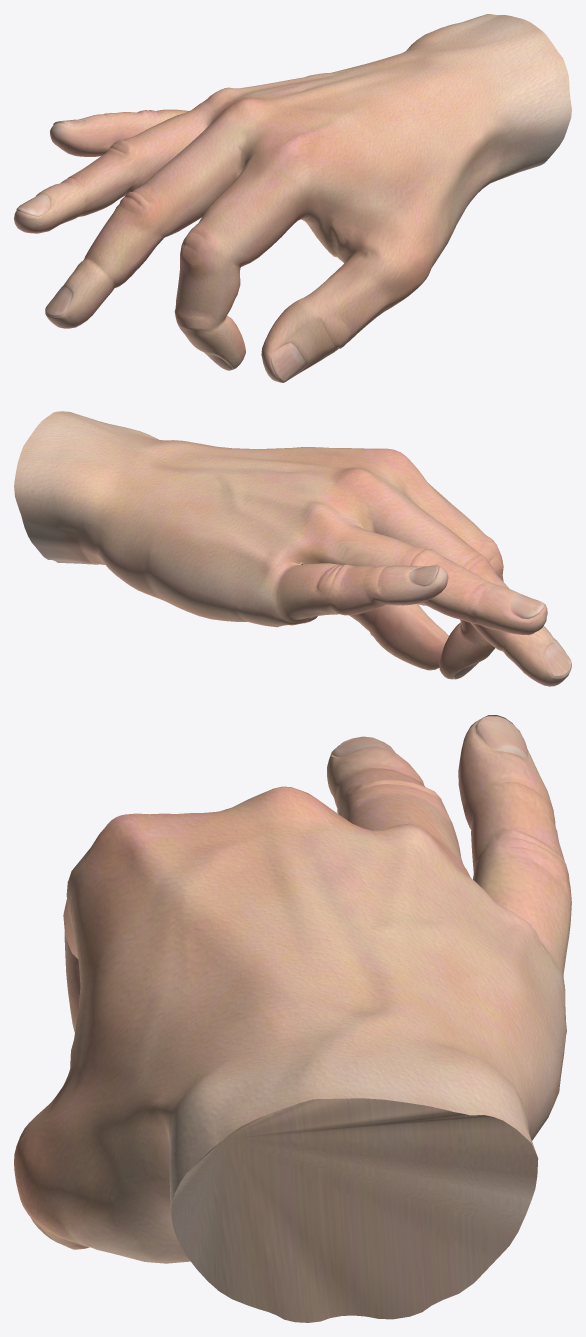
Rendered from hand_11.obj.
The picture shows the model from 3 angles, top to bottom: view 1: azimuth 30°, elevation 25°; view 2: azimuth 150°, elevation 25°; view 3: azimuth 270°, elevation 25°; orthographic projection. The views are drawn at different scales.
Parts seen in each view (by area): view 1: Figure_2; view 2: Figure_2; view 3: Figure_2.
Part boxes in pixels (bbox=[...]): Figure_2: bbox=[14, 14, 571, 382]; Figure_2: bbox=[14, 411, 571, 686]; Figure_2: bbox=[14, 715, 571, 1322].
Size of the model in its own units: 0.8576 by 0.3764 by 0.4109.
2 materials, 2 textured.
